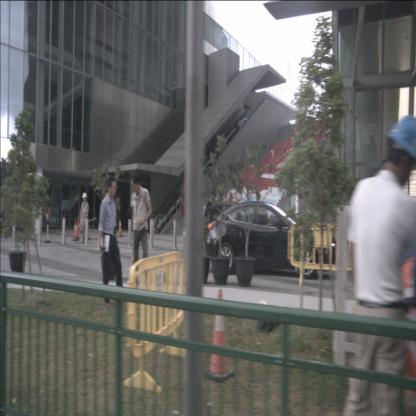human-pedestrian-adult: (99, 178, 126, 309), (129, 174, 153, 291), (204, 191, 218, 262)
movable_object-trafficcone: (202, 286, 236, 386), (116, 219, 125, 237), (74, 219, 81, 240), (72, 219, 78, 240)
vehicle-car: (206, 202, 338, 280)
